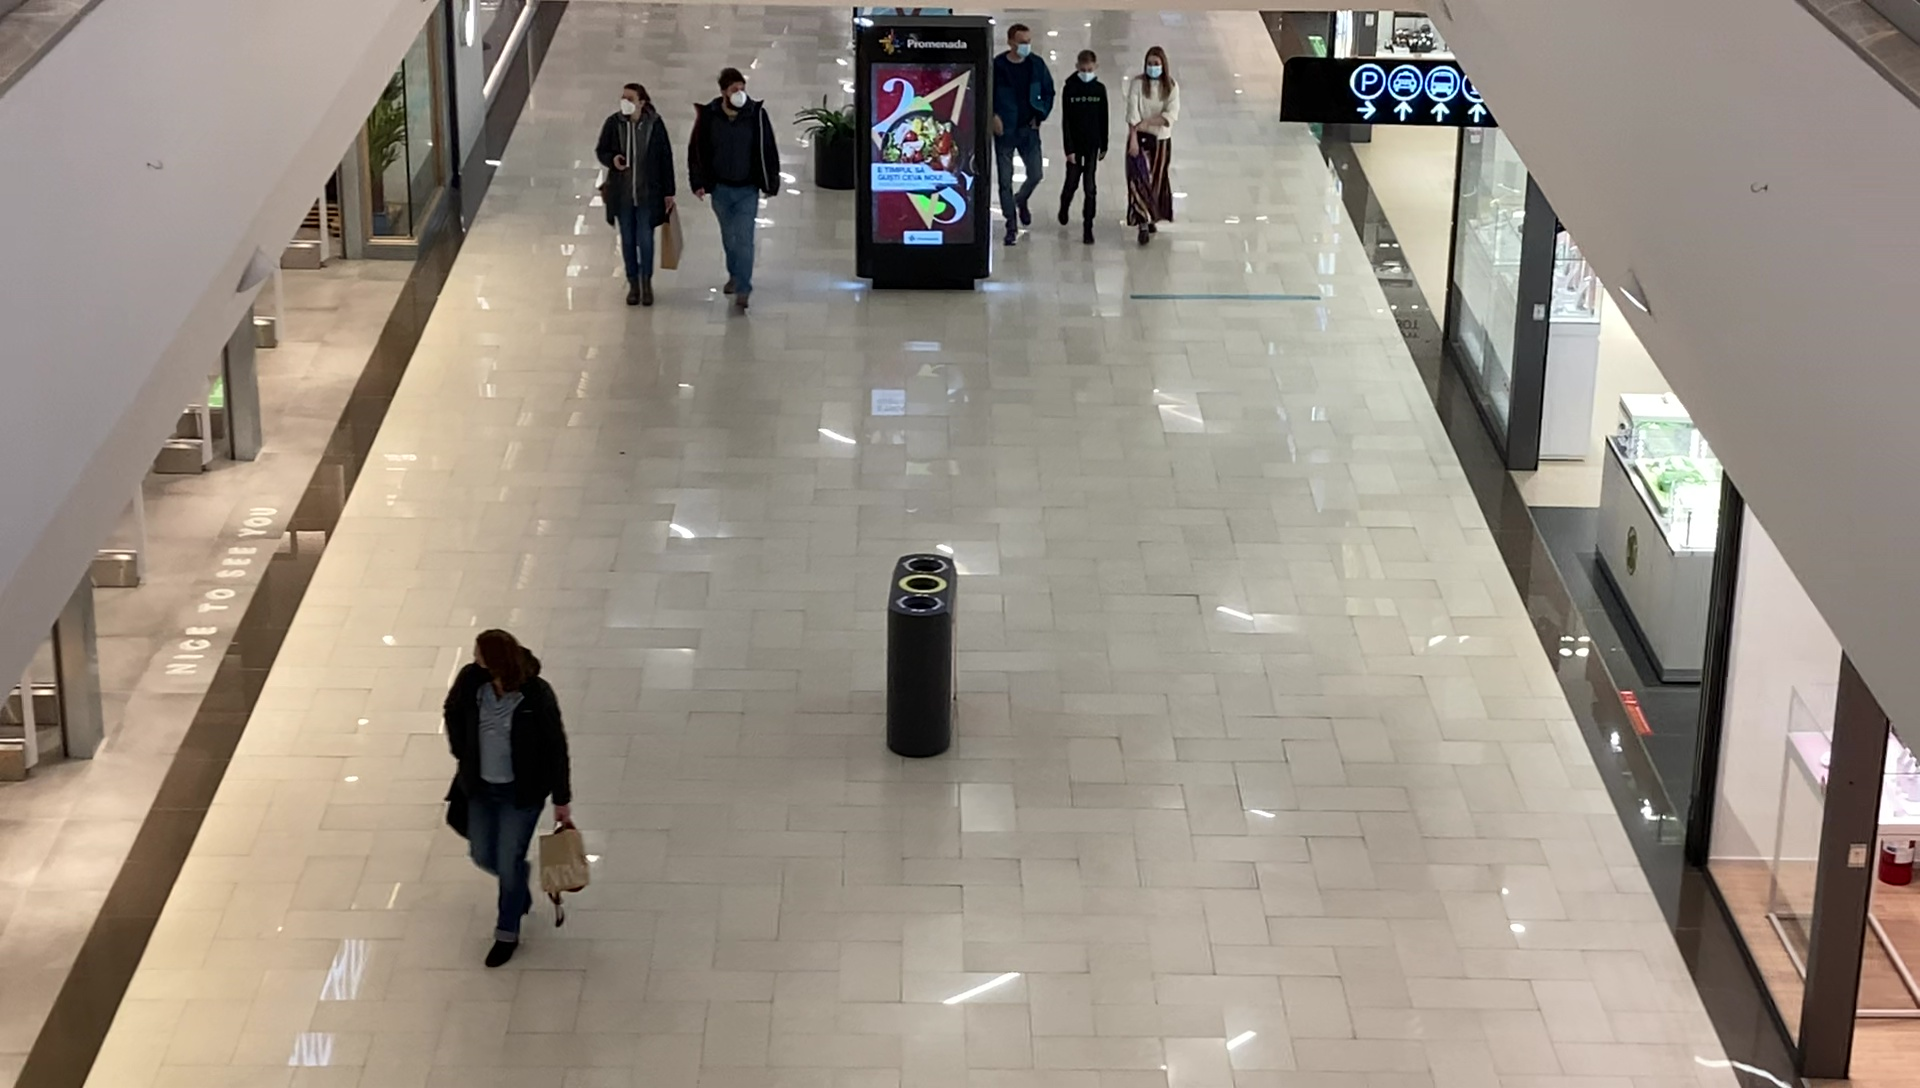person: (443, 630, 574, 969), (685, 67, 780, 309), (597, 83, 677, 305), (989, 24, 1058, 250), (1126, 46, 1181, 245), (1058, 47, 1108, 245)
